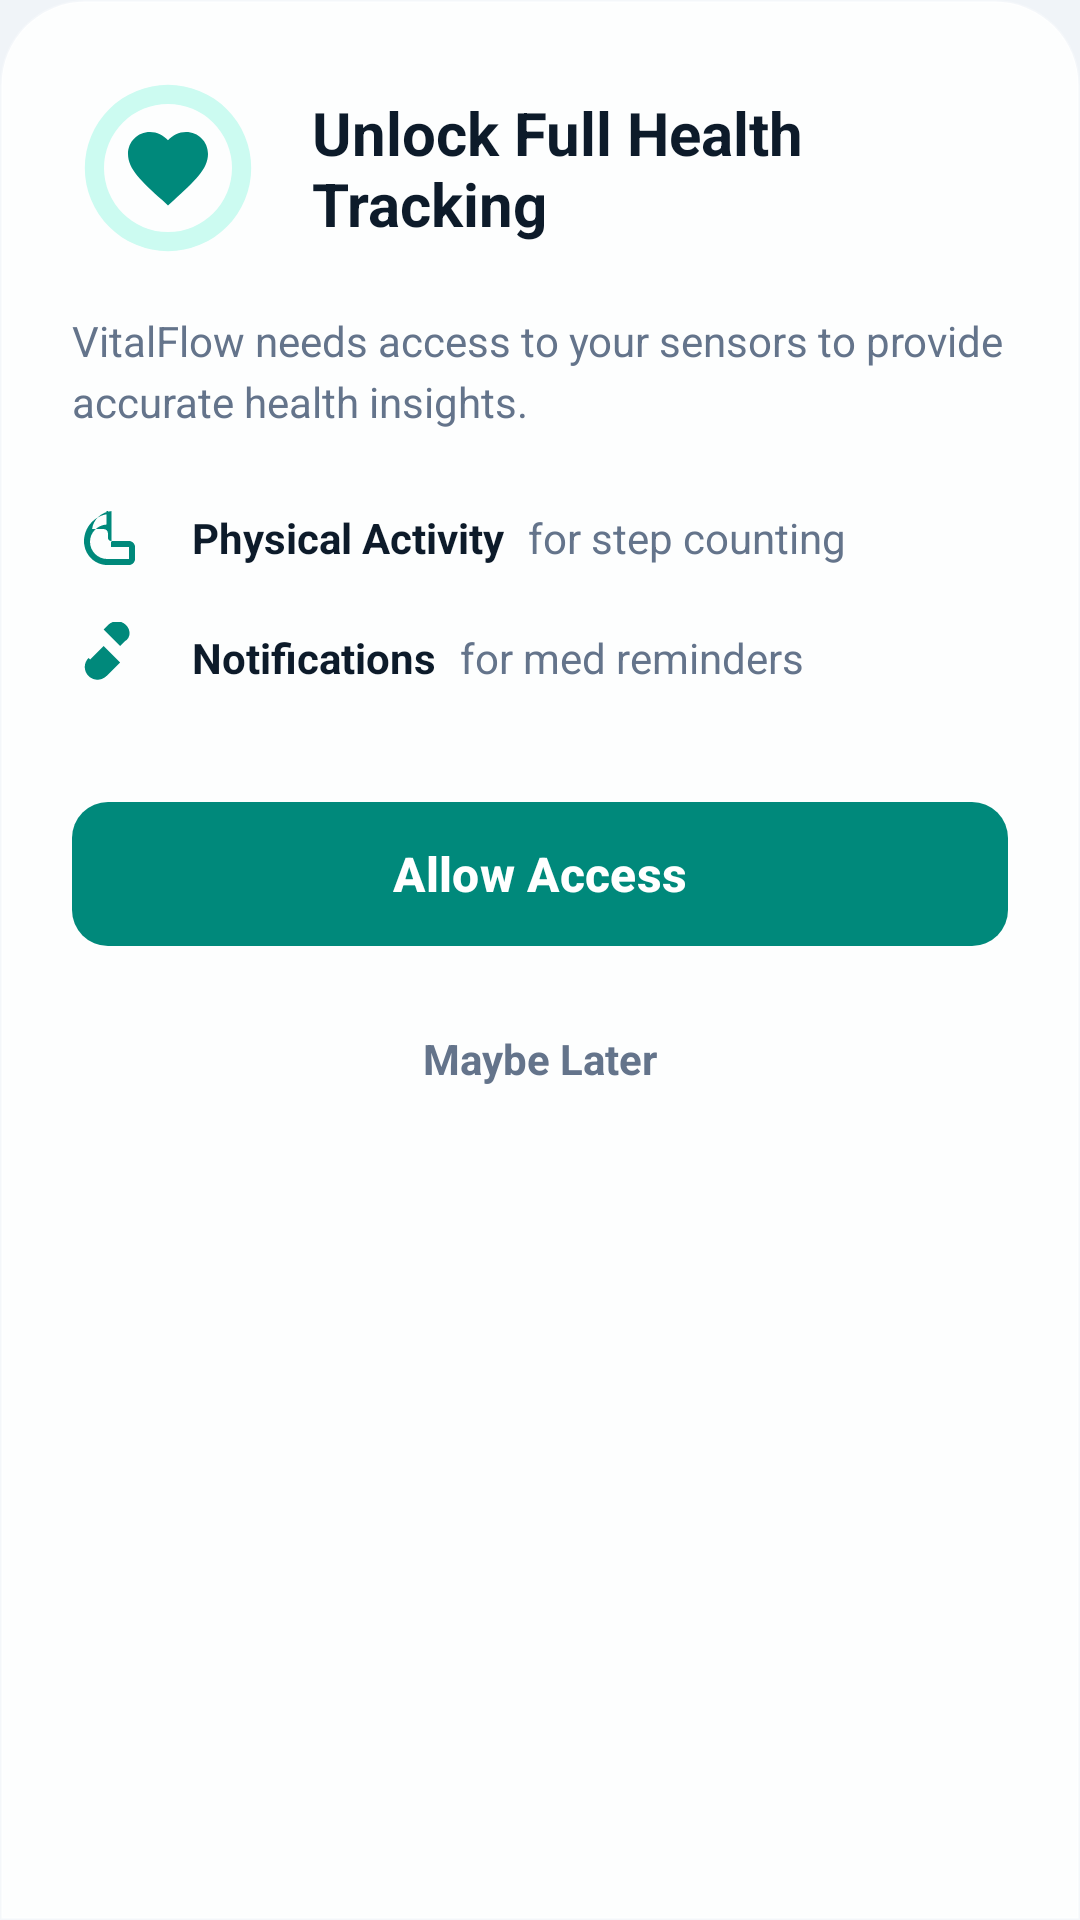

Point at icon controls on the screen. Image size 1080*1920, points as [x,y].
heart: [168,168]
medicine pro: [107,651]
steps: [109,538]
